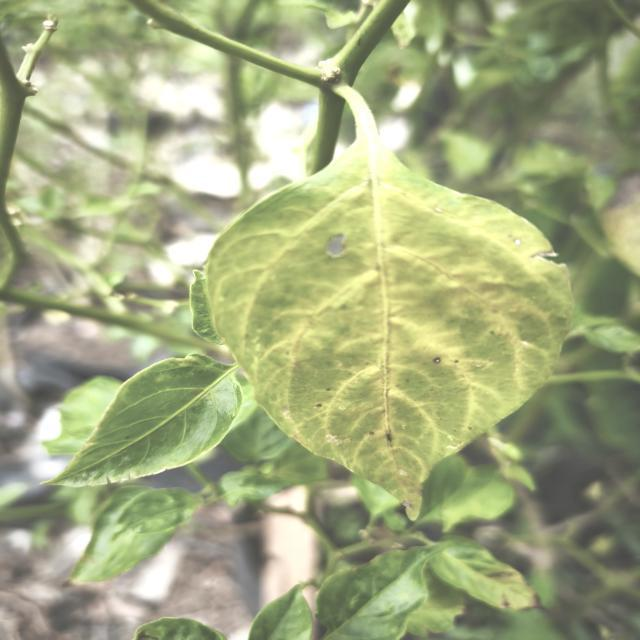Virus Kuning: (197, 127, 575, 521), (36, 352, 244, 487)
